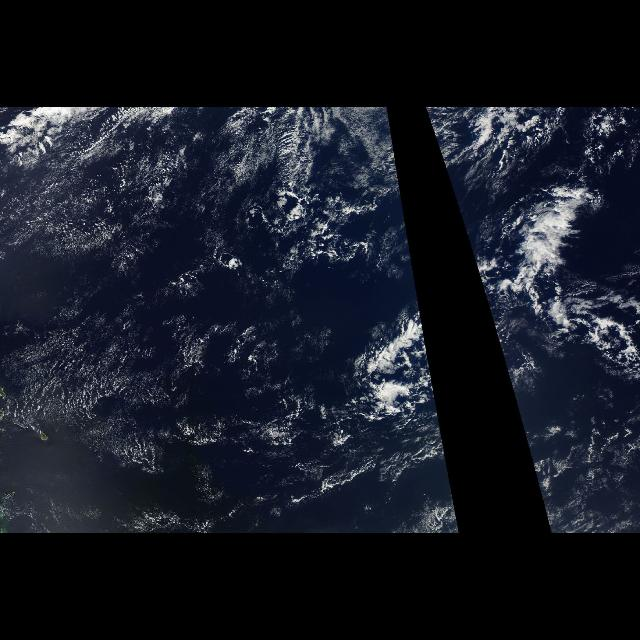Fish: (422, 110, 632, 434), (346, 110, 442, 434)
Sugar: (0, 116, 222, 472)
